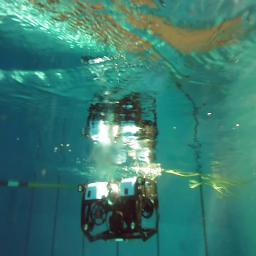front: (77, 176, 160, 242)
